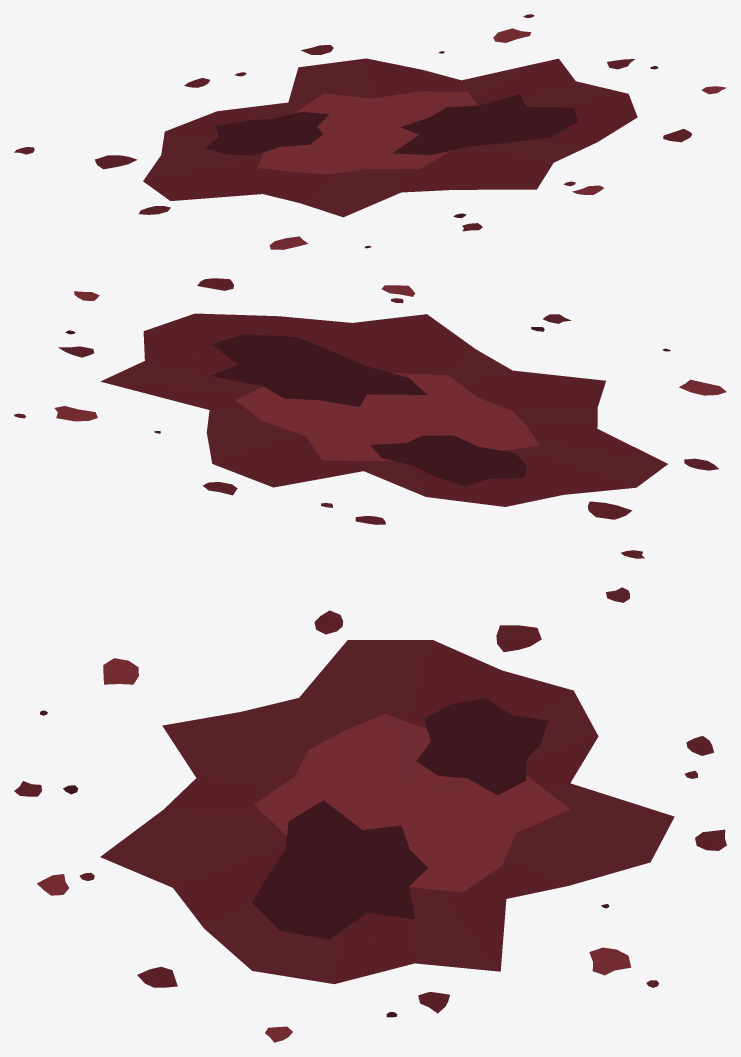
The model's file is Bloodstain.fbx.
3 renders of one model, top to bottom at view 1: azimuth 30°, elevation 25°; view 2: azimuth 150°, elevation 25°; view 3: azimuth 270°, elevation 25°, orthographic. The views are drawn at different scales.
Parts seen in each view (by area): view 1: Main irregular stain decal, Central muted red variation, Dark outer patch, Small upper patch, Evidence droplet 01; view 2: Main irregular stain decal, Central muted red variation, Dark outer patch, Small upper patch, Evidence droplet 01, Evidence droplet 06, Evidence droplet 03; view 3: Main irregular stain decal, Central muted red variation, Dark outer patch, Small upper patch, Evidence droplet 01, Evidence droplet 06, Evidence droplet 03.
Boxes of the visible parts, x1=… form: Main irregular stain decal: x1=143, y1=58, x2=637, y2=217; Central muted red variation: x1=257, y1=91, x2=477, y2=174; Dark outer patch: x1=392, y1=94, x2=577, y2=154; Small upper patch: x1=205, y1=112, x2=328, y2=155; Evidence droplet 01: x1=95, y1=155, x2=137, y2=169; Main irregular stain decal: x1=100, y1=313, x2=667, y2=506; Central muted red variation: x1=235, y1=372, x2=539, y2=460; Dark outer patch: x1=210, y1=334, x2=427, y2=406; Small upper patch: x1=370, y1=435, x2=526, y2=486; Evidence droplet 01: x1=587, y1=501, x2=632, y2=519; Evidence droplet 06: x1=54, y1=406, x2=97, y2=421; Evidence droplet 03: x1=679, y1=379, x2=726, y2=395; Main irregular stain decal: x1=100, y1=640, x2=674, y2=984; Central muted red variation: x1=254, y1=713, x2=570, y2=892; Dark outer patch: x1=252, y1=800, x2=427, y2=939; Small upper patch: x1=416, y1=698, x2=547, y2=795; Evidence droplet 01: x1=496, y1=625, x2=541, y2=651; Evidence droplet 06: x1=589, y1=947, x2=631, y2=975; Evidence droplet 03: x1=103, y1=658, x2=138, y2=684.
Size of the model in its own units: 81.96 by 0.2459 by 54.2.
